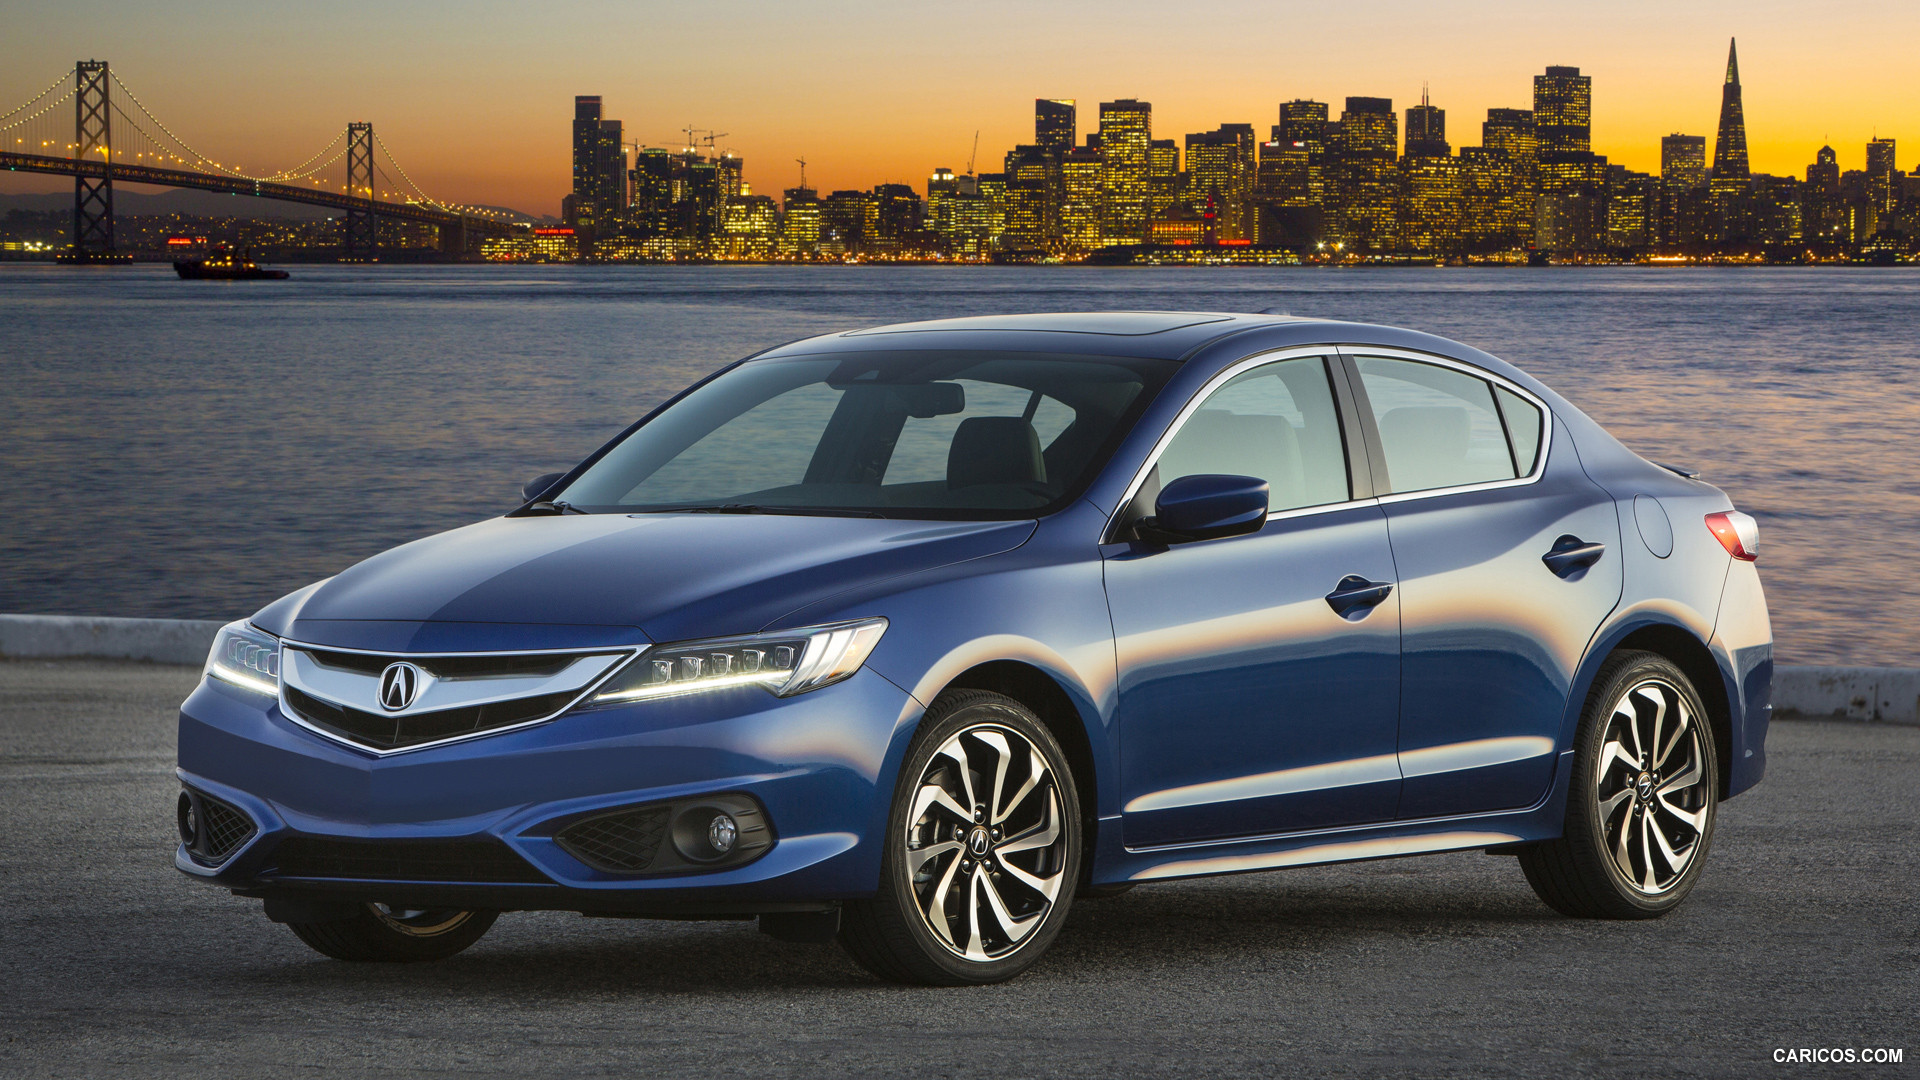Fog Lamp & Scope: (554, 789, 781, 882)
Front: (175, 527, 1015, 895)
Front Bumper: (166, 750, 884, 897)
Grill: (276, 646, 605, 756)
Headlight: (564, 615, 889, 720)
